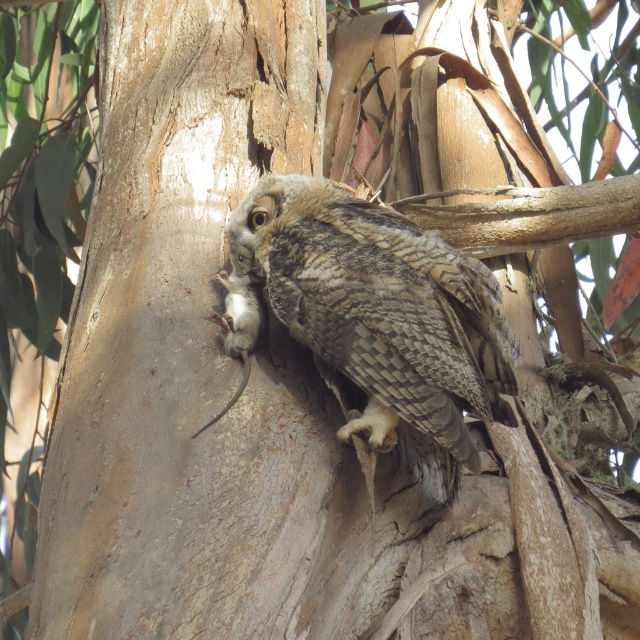Owl: (223, 174, 524, 504)
